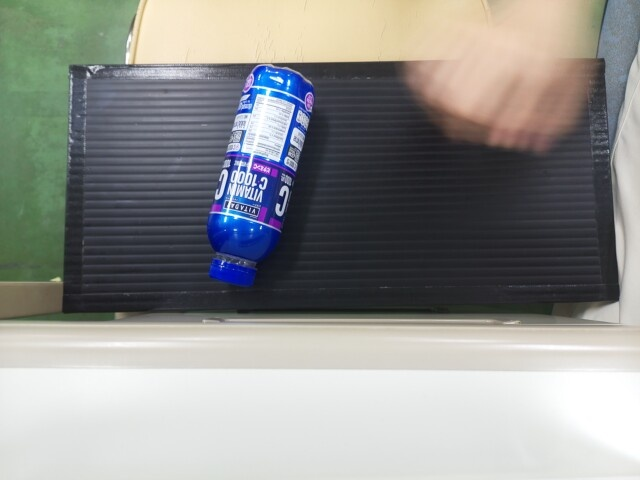plastic_bottle: (210, 63, 310, 278)
